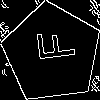F: (27, 28, 76, 64)
